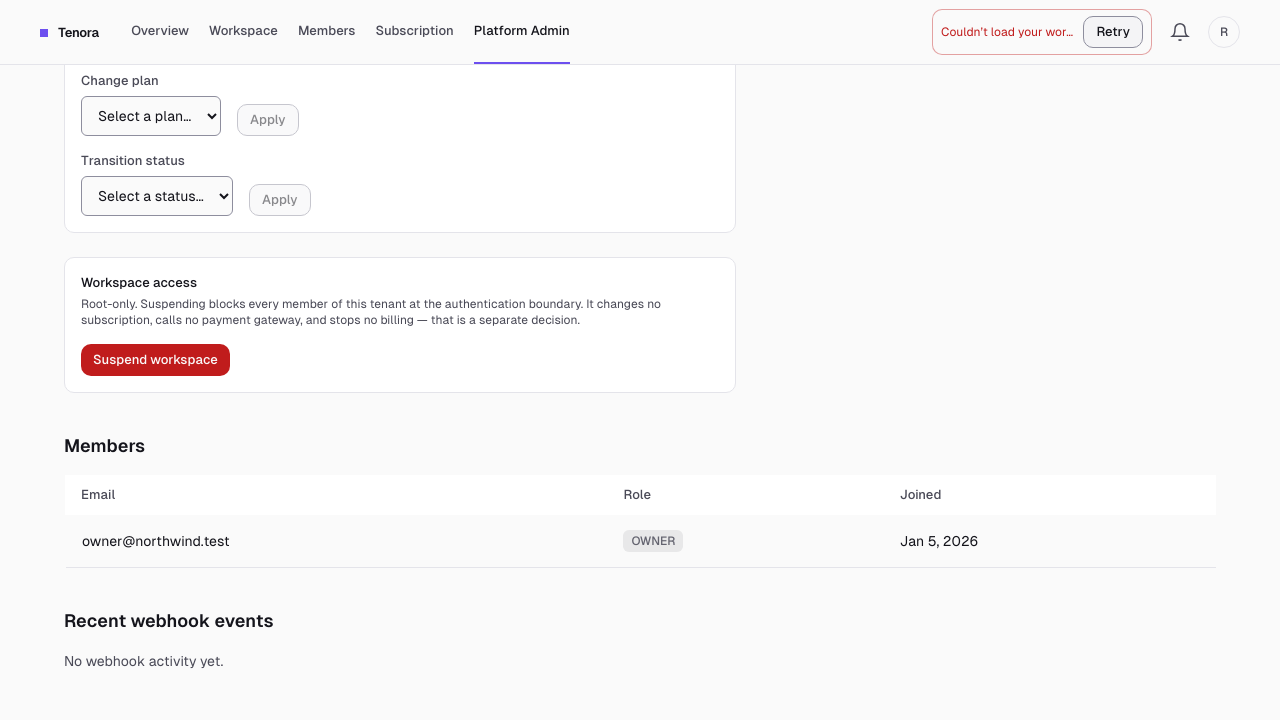
/admin/tenants/:id — suspend control (Root tier) › names how many accounts a suspension affects
(page scrolled)
Click the button "Suspend workspace". click: (155,360)
box: [81,344,230,376]
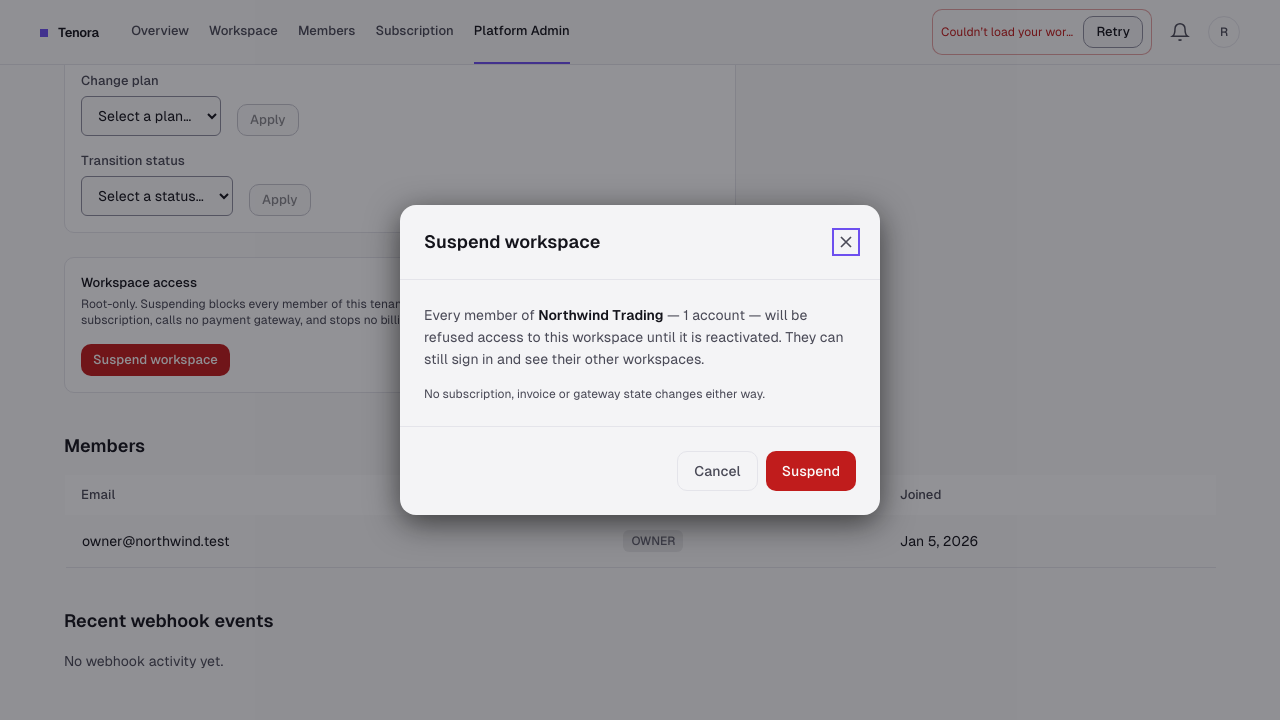
expect the dialog shows "1 account": met, box [683,307,745,323]
